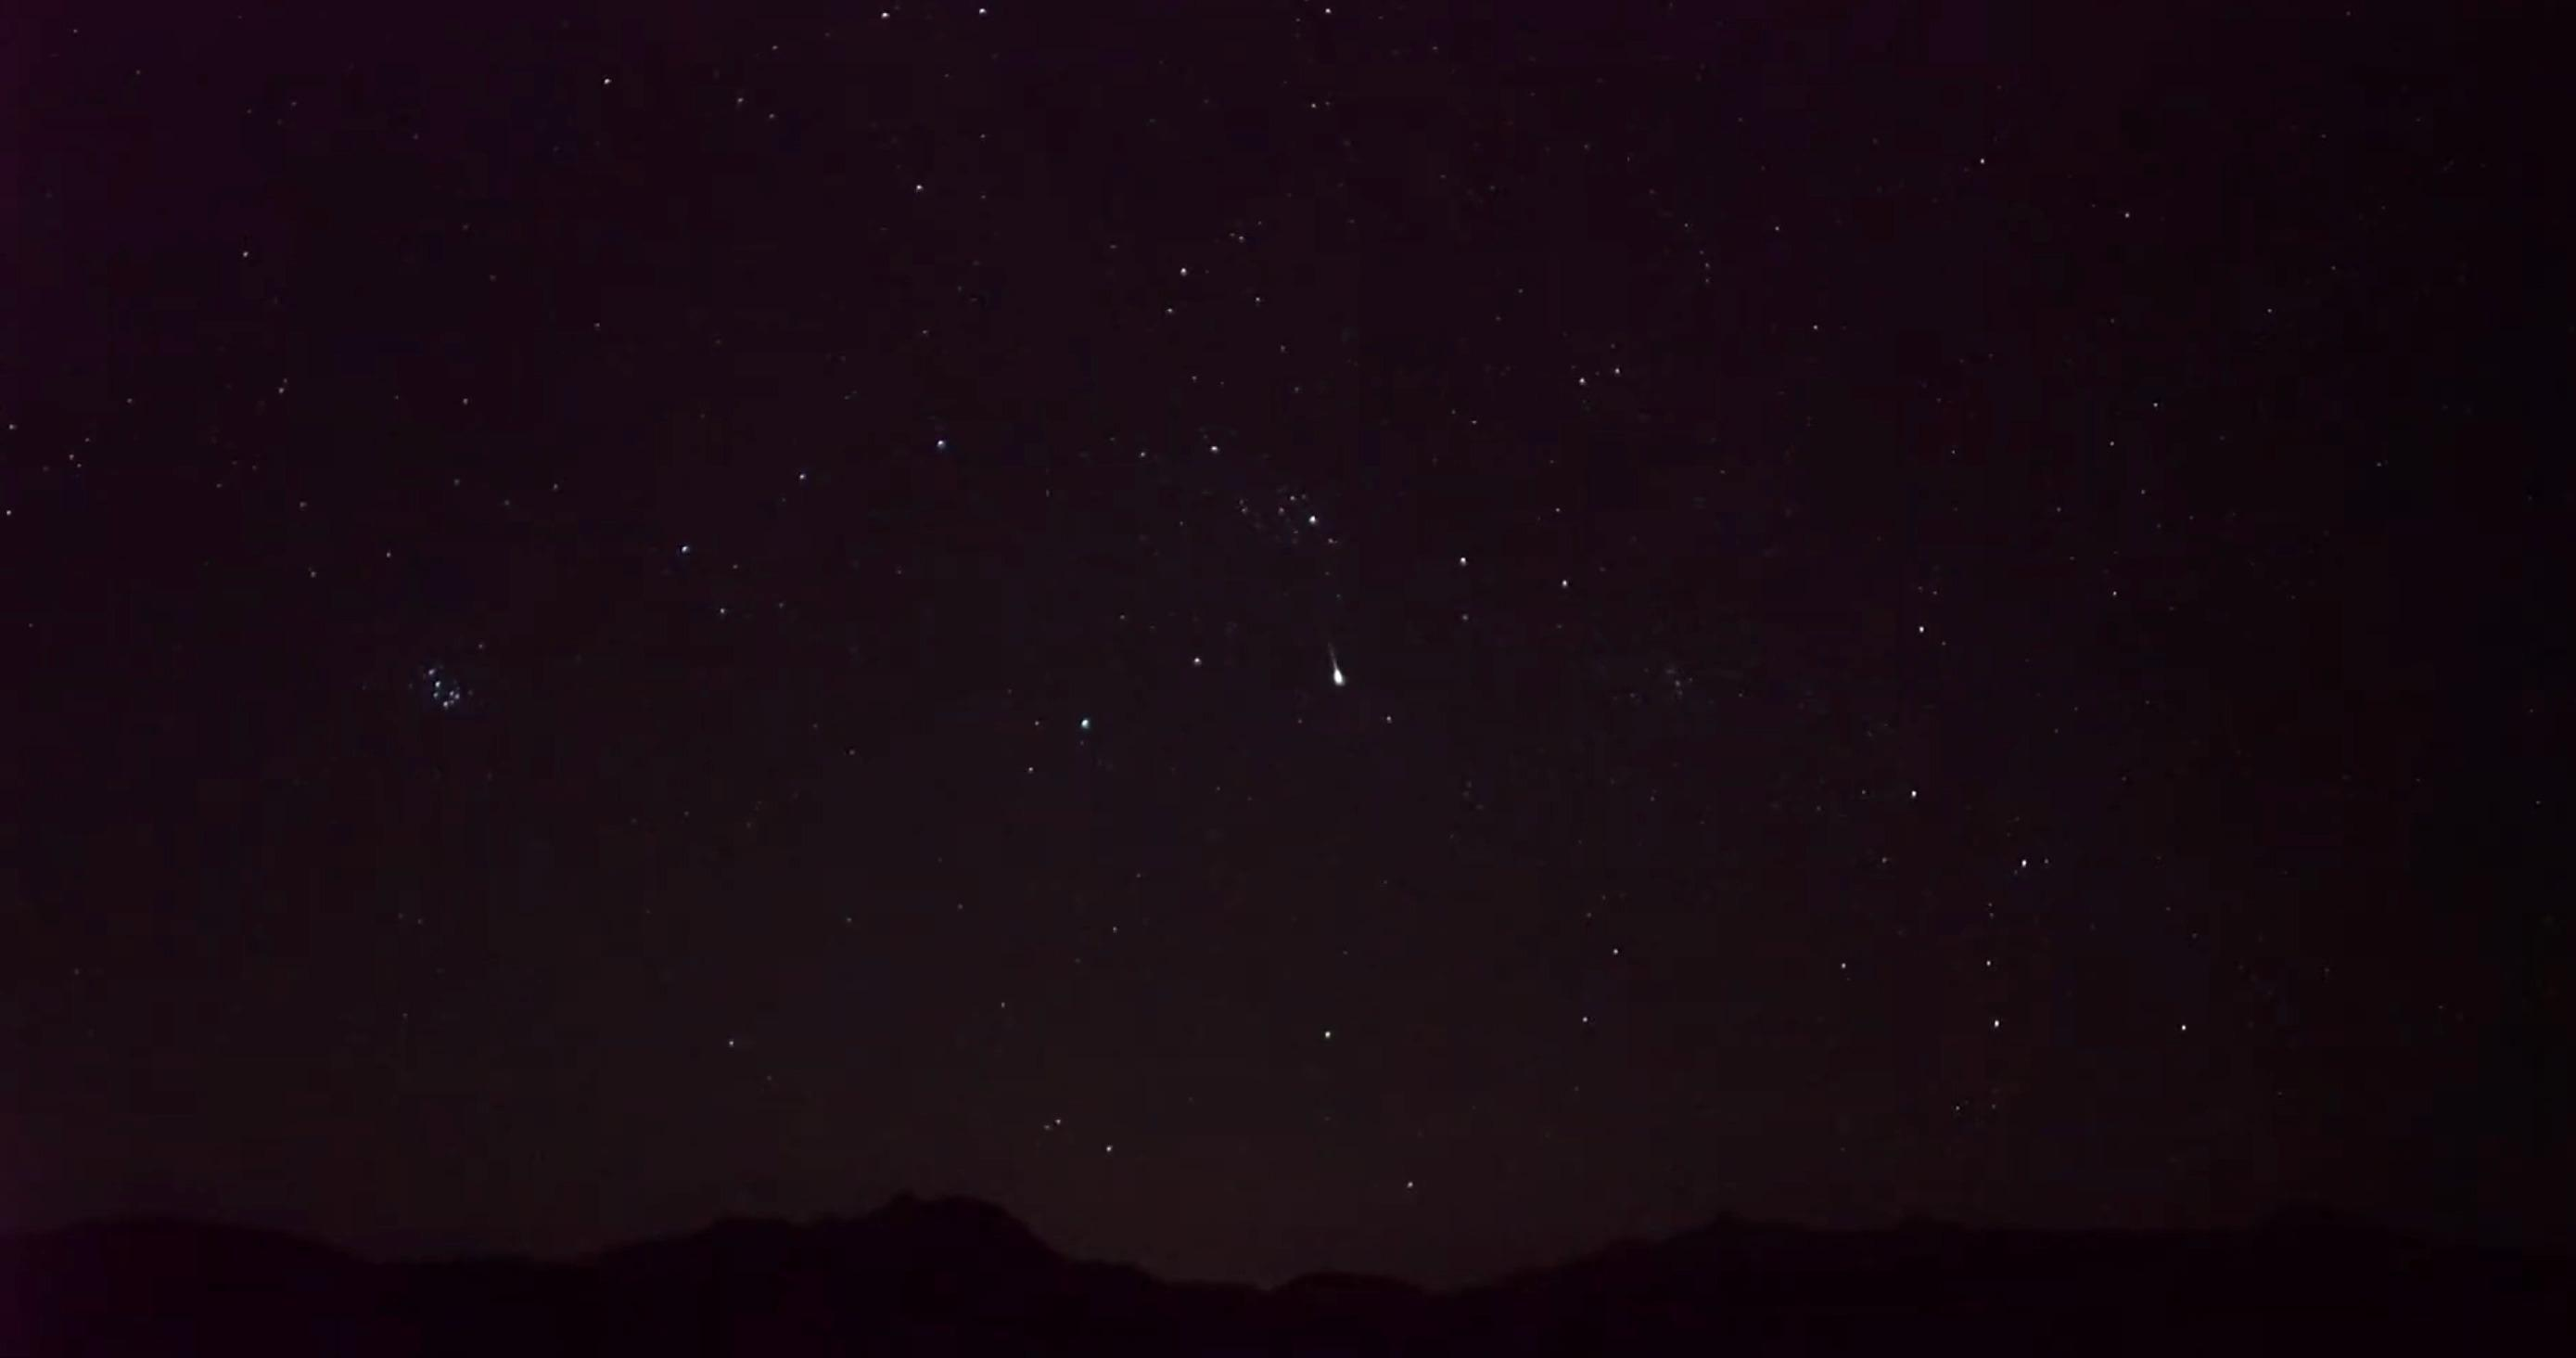meteorite: (1269, 632, 1397, 707)
